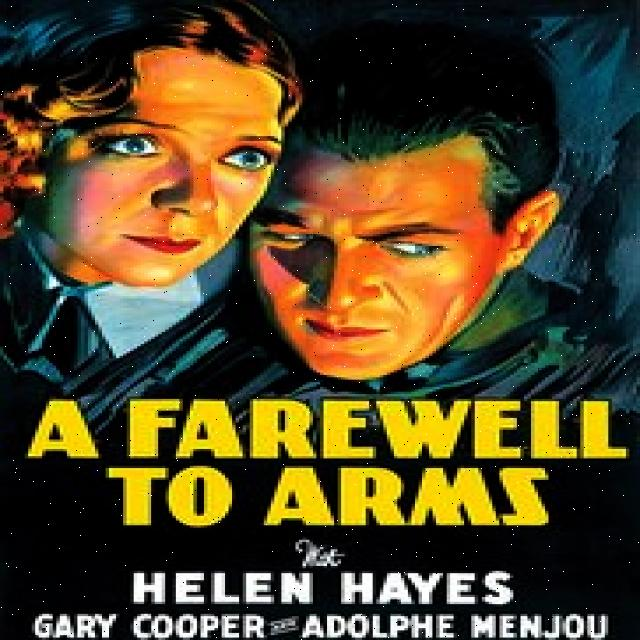movie-judul: (10, 394, 634, 532)
picture: (0, 0, 640, 387)
